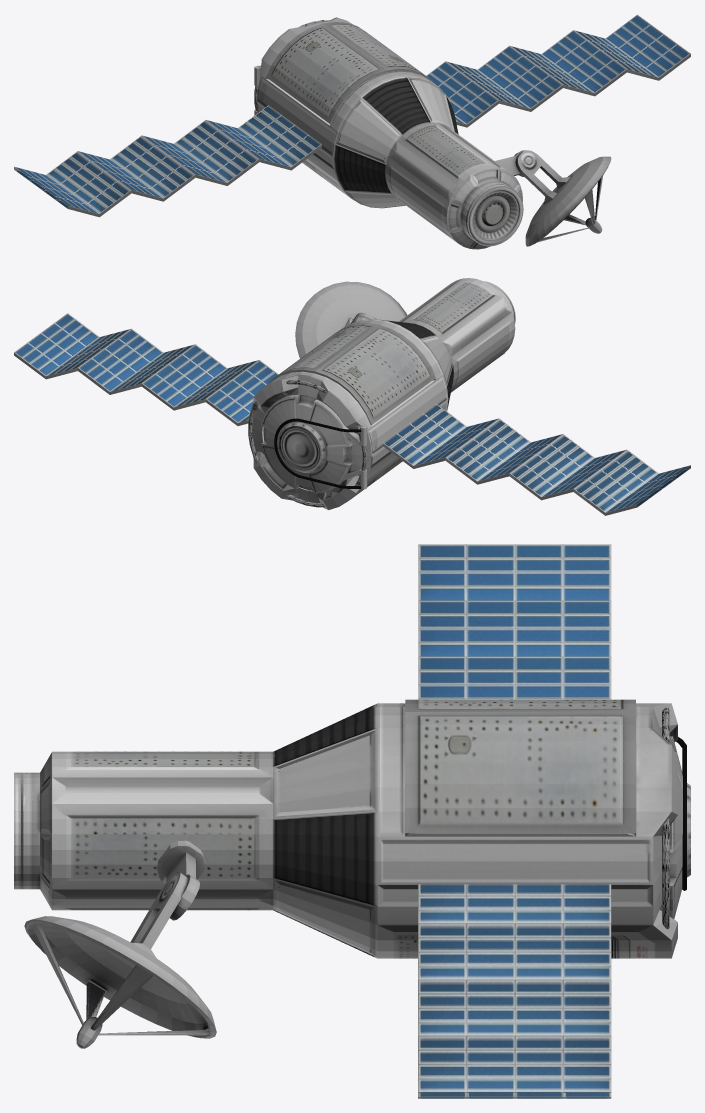
File: station-g1.glb
3 renders of one model, top to bottom at view 1: azimuth 30°, elevation 25°; view 2: azimuth 150°, elevation 25°; view 3: azimuth 270°, elevation 25°, orthographic. The views are drawn at different scales.
Size of the model in its own units: 2.5 by 0.5344 by 1.31.
1 material, 1 textured.
